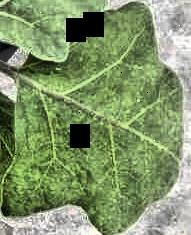HEALTHY: (0, 1, 191, 235)
